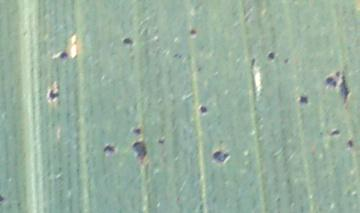tarspot: (337, 70, 351, 104), (130, 140, 151, 162), (210, 148, 231, 163), (47, 87, 60, 101), (323, 75, 337, 87), (129, 125, 143, 136), (102, 144, 116, 154), (298, 93, 309, 105), (57, 50, 70, 60), (121, 37, 134, 46), (188, 28, 198, 37), (156, 136, 166, 145), (329, 128, 339, 137), (267, 50, 275, 60), (346, 138, 354, 148), (249, 56, 255, 69), (199, 106, 208, 114), (282, 56, 290, 64), (195, 65, 203, 72), (1, 192, 6, 203), (171, 53, 178, 59), (334, 69, 339, 77)
